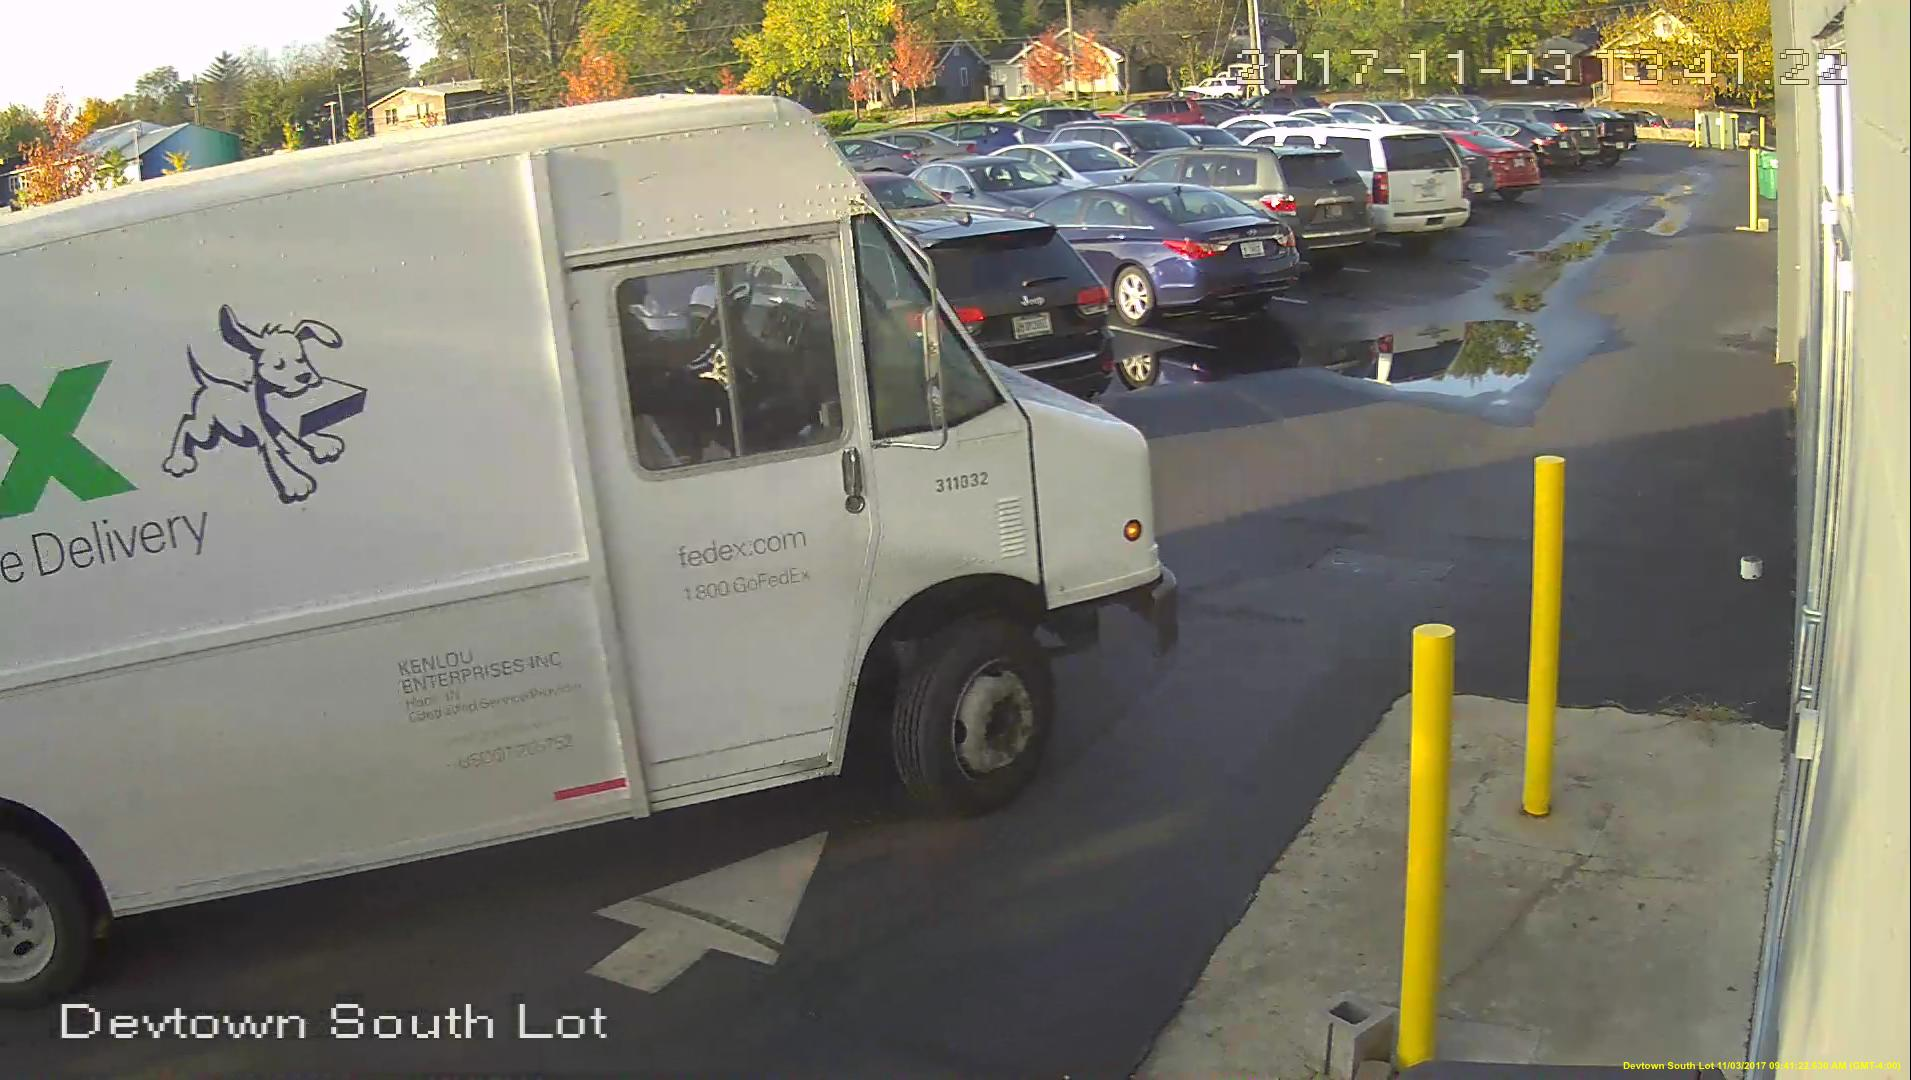fedex_truck: (7, 93, 1172, 1008)
